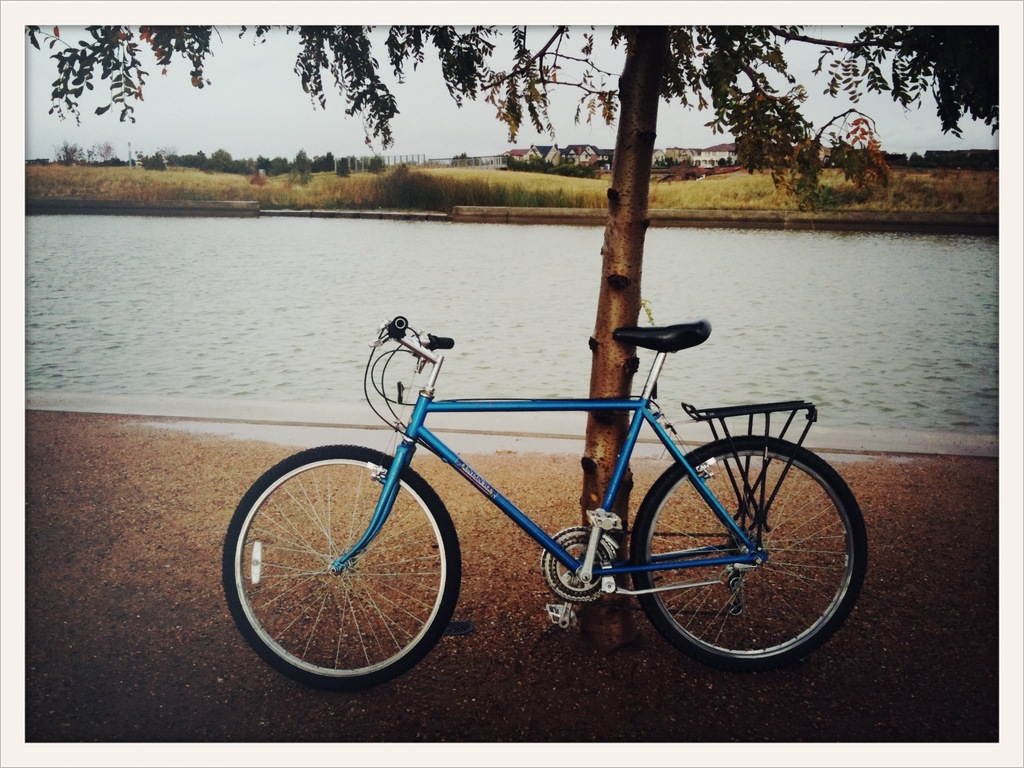Bike: (179, 337, 850, 697)
